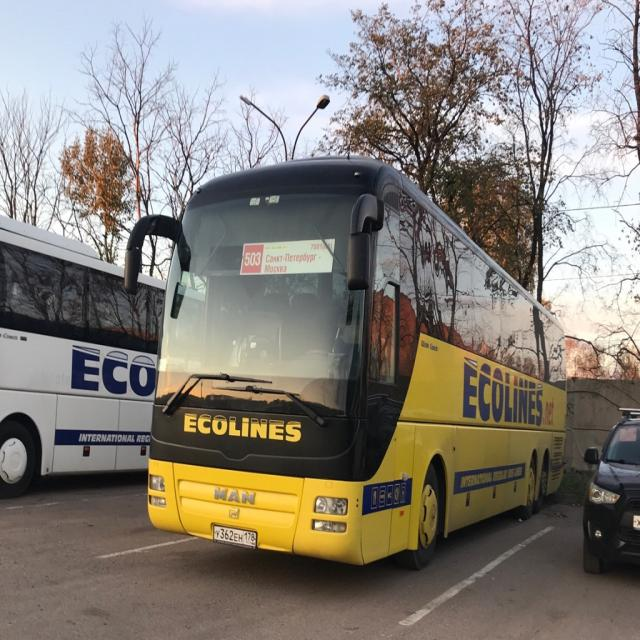number-of-bus: (245, 248, 263, 268)
